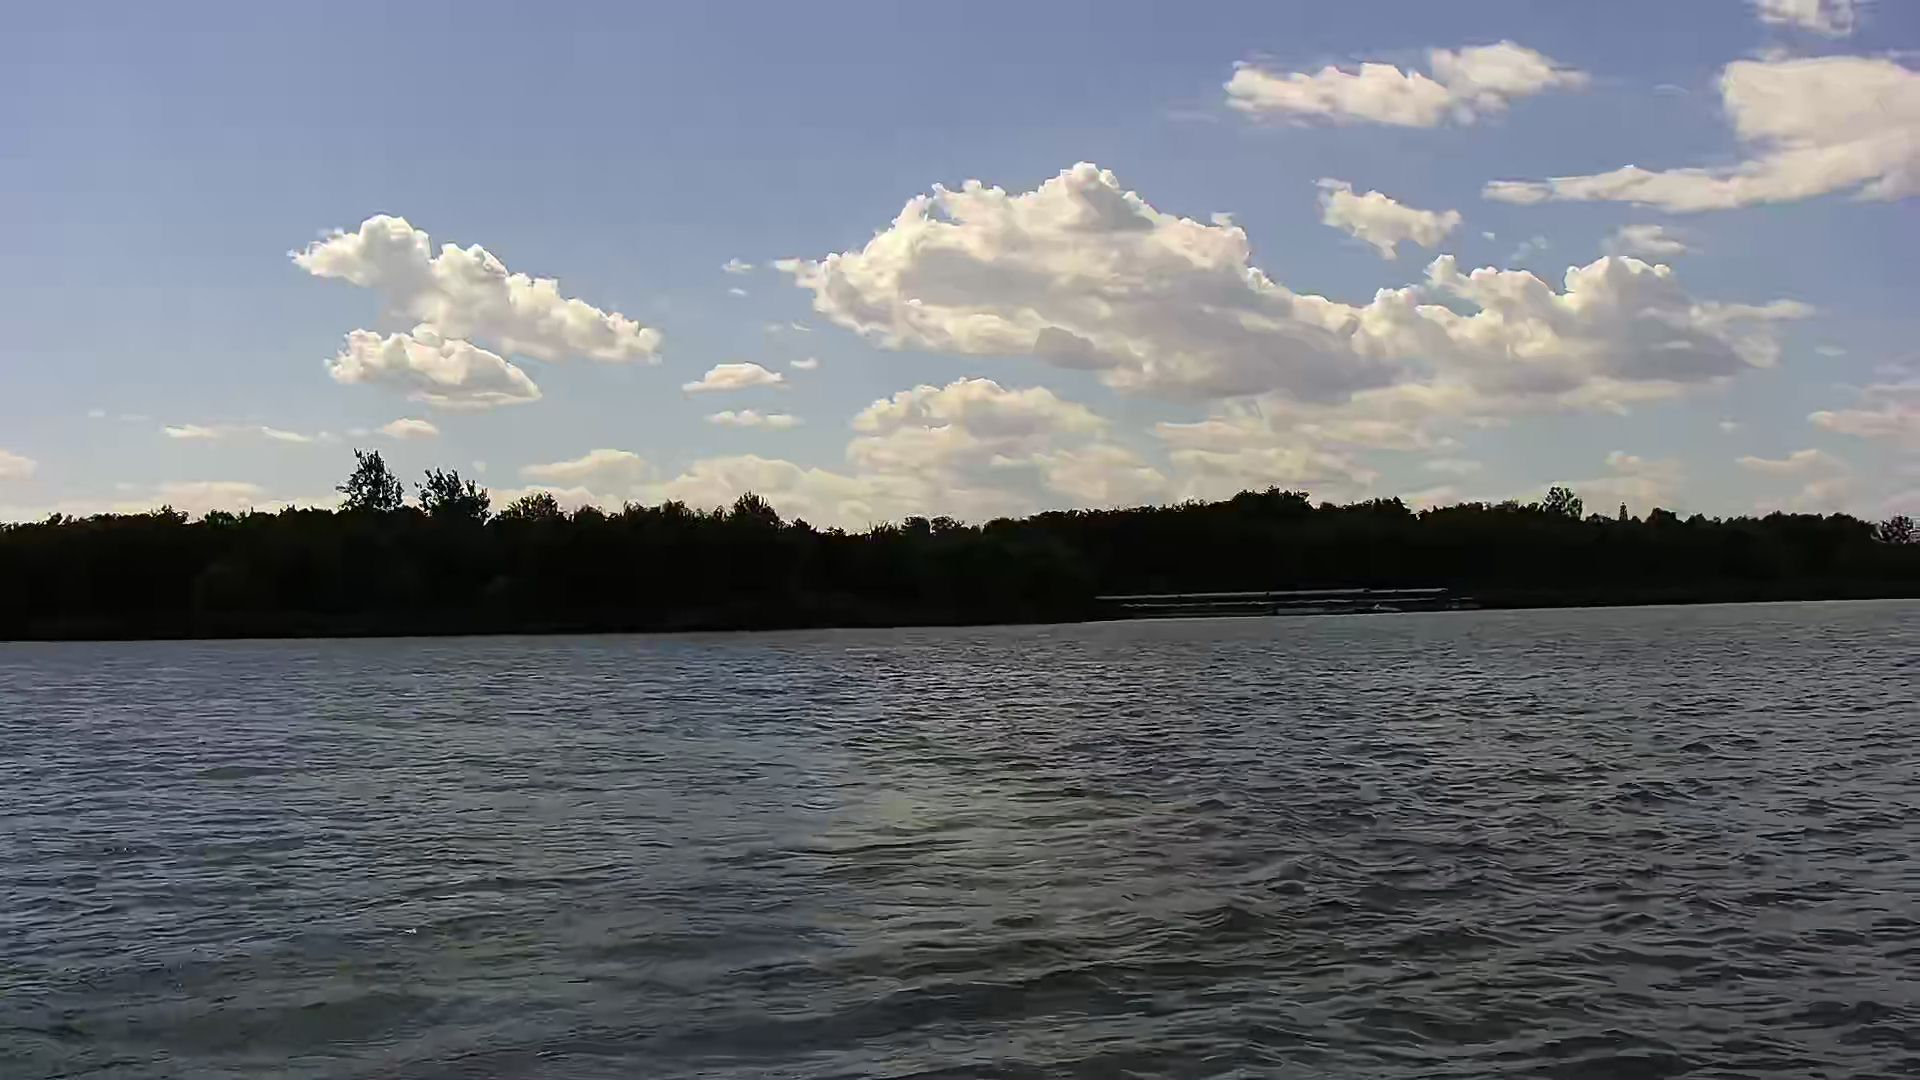harbor: (1122, 585, 1444, 609)
